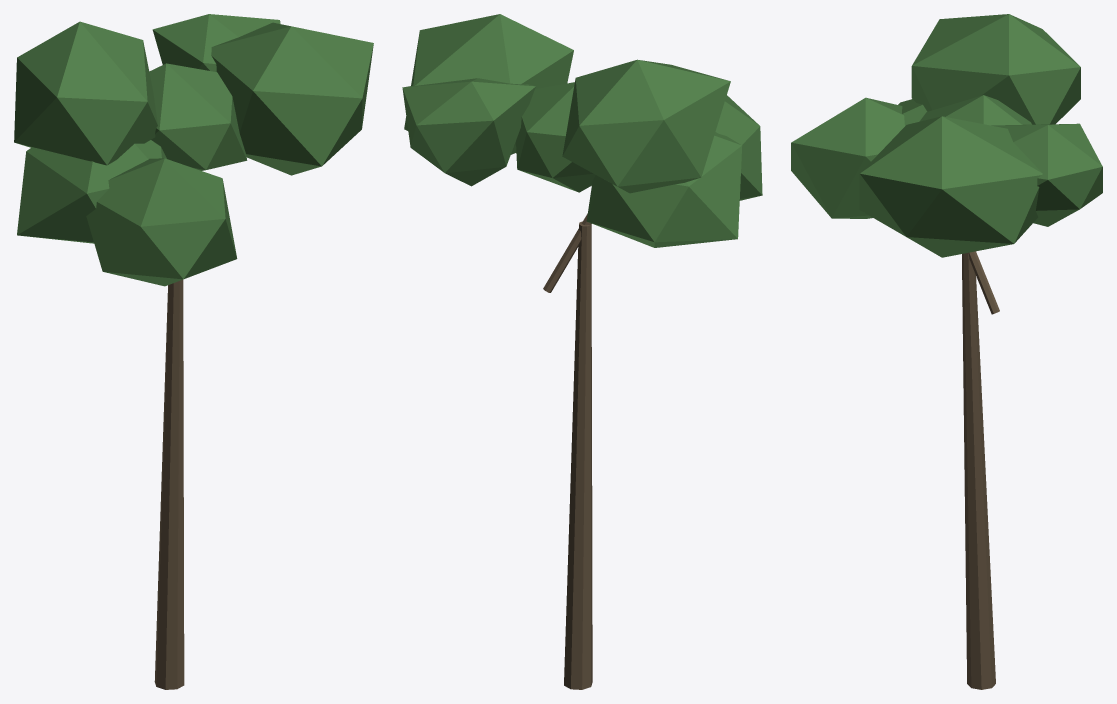
The model's file is tree-street.glb.
3 renders of one model, left to right at view 1: azimuth 30°, elevation 25°; view 2: azimuth 150°, elevation 25°; view 3: azimuth 270°, elevation 25°, orthographic. The views are drawn at different scales.
Visible parts, largest first — view 1: Foliage; view 2: Foliage; view 3: Foliage.
Part boxes in pixels (x1,y1,x2,y2): Foliage: (14,14,373,689); Foliage: (402,14,762,689); Foliage: (791,14,1102,689).
Size of the model in its own units: 4.13 by 7.74 by 3.44.
